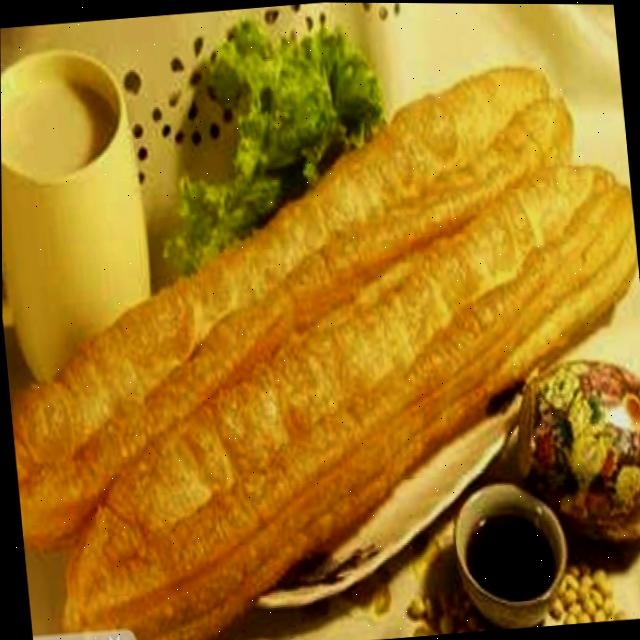炸货点心: (0, 10, 640, 631)
